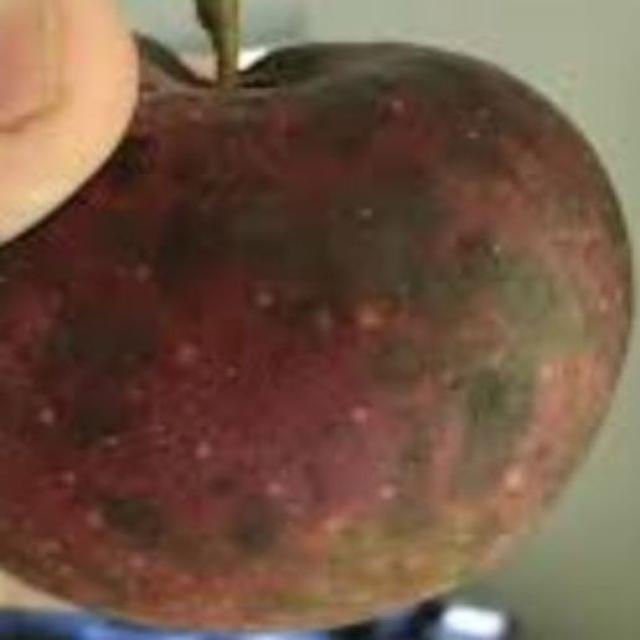Rotten Apple: (0, 20, 618, 624)
